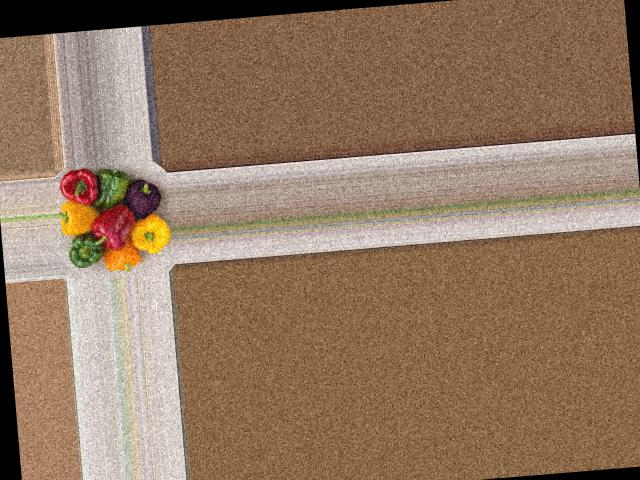bell_pepper: (114, 168, 161, 221)
